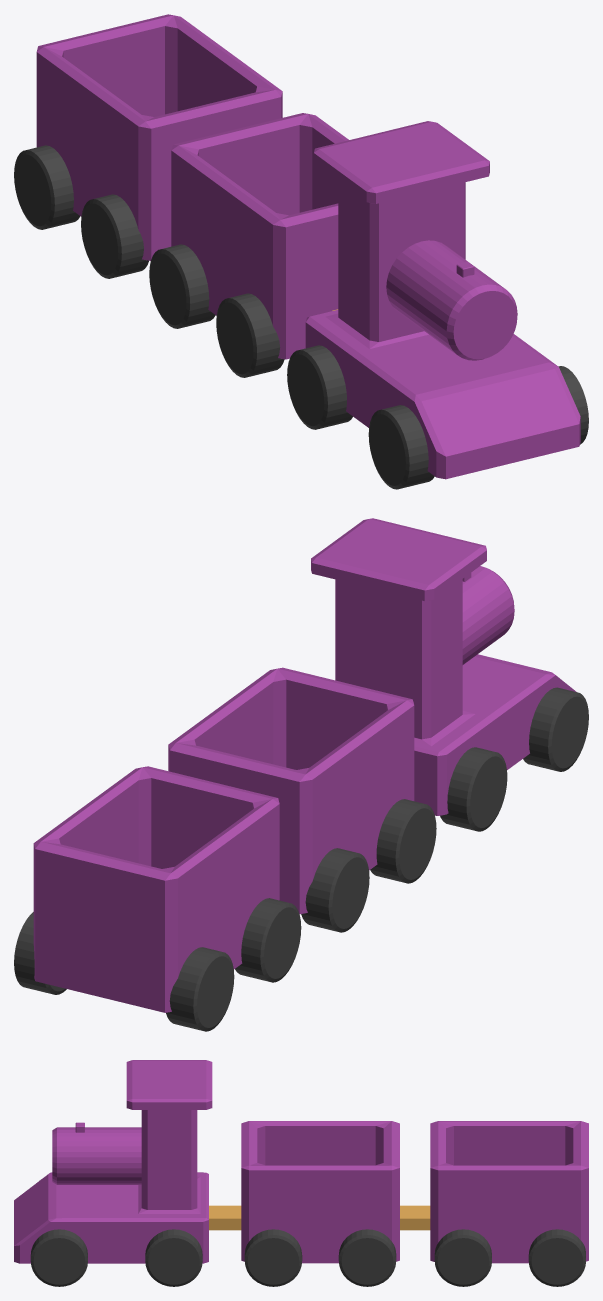
Rendered from ToyTrain_1_Props.fbx.
The picture shows the model from 3 angles, top to bottom: view 1: azimuth 30°, elevation 25°; view 2: azimuth 150°, elevation 25°; view 3: azimuth 270°, elevation 25°; orthographic projection. The views are drawn at different scales.
Visible parts, largest first — view 1: TrainBody, TrainCarriage.001, TrainCarriage, TrainFront, TrainTire.008, TrainTire.010, TrainTire.009, TrainTire.011, TrainTire.006, TrainTire.007, TrainTire; view 2: TrainCarriage.001, TrainBody, TrainCarriage, TrainTire.011, TrainTire.009, TrainTire.007, TrainTire.008, TrainTire.010, TrainTire.006, TrainFront, TrainTire.005; view 3: TrainBody, TrainCarriage.001, TrainCarriage, TrainFront, TrainTire.003, TrainTire.002, TrainTire.005, TrainTire.004, TrainTire.001, TrainTire, TrainConnect, TrainConnect.001.
Part boxes in pixels (x1,y1,x2,y2): TrainBody: (305, 121, 580, 479); TrainCarriage.001: (36, 14, 282, 260); TrainCarriage: (171, 113, 348, 359); TrainFront: (386, 240, 517, 360); TrainTire.008: (216, 293, 284, 377); TrainTire.010: (81, 194, 148, 278); TrainTire.009: (149, 244, 215, 328); TrainTire.011: (14, 145, 80, 229); TrainTire.006: (368, 405, 434, 489); TrainTire.007: (287, 345, 352, 429); TrainTire: (558, 366, 588, 444); TrainCarriage.001: (33, 766, 279, 1012); TrainBody: (311, 518, 576, 815); TrainCarriage: (168, 667, 414, 914); TrainTire.011: (166, 947, 234, 1031); TrainTire.009: (301, 848, 369, 932); TrainTire.007: (440, 747, 507, 831); TrainTire.008: (370, 799, 436, 883); TrainTire.010: (235, 898, 301, 982); TrainTire.006: (523, 687, 588, 771); TrainFront: (462, 566, 514, 664); TrainTire.005: (14, 912, 66, 994); TrainBody: (14, 1060, 212, 1263); TrainCarriage.001: (430, 1121, 588, 1263); TrainCarriage: (241, 1121, 399, 1263); TrainFront: (52, 1127, 141, 1184); TrainTire.003: (338, 1229, 396, 1286); TrainTire.002: (244, 1229, 302, 1286); TrainTire.005: (528, 1229, 585, 1286); TrainTire.004: (434, 1229, 491, 1286); TrainTire.001: (145, 1229, 202, 1286); TrainTire: (30, 1229, 87, 1286); TrainConnect: (209, 1205, 241, 1230); TrainConnect.001: (400, 1205, 430, 1230).
Size of the model in its own units: 80.04 by 106 by 311.
